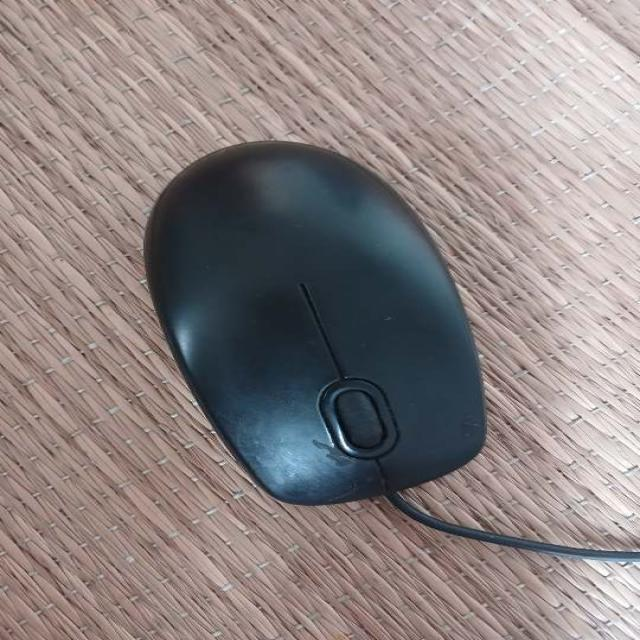mouse: (138, 138, 496, 508)
